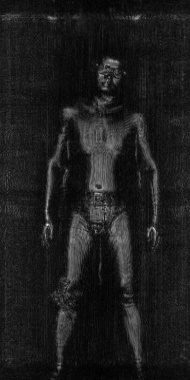gun: (48, 274, 85, 322)
